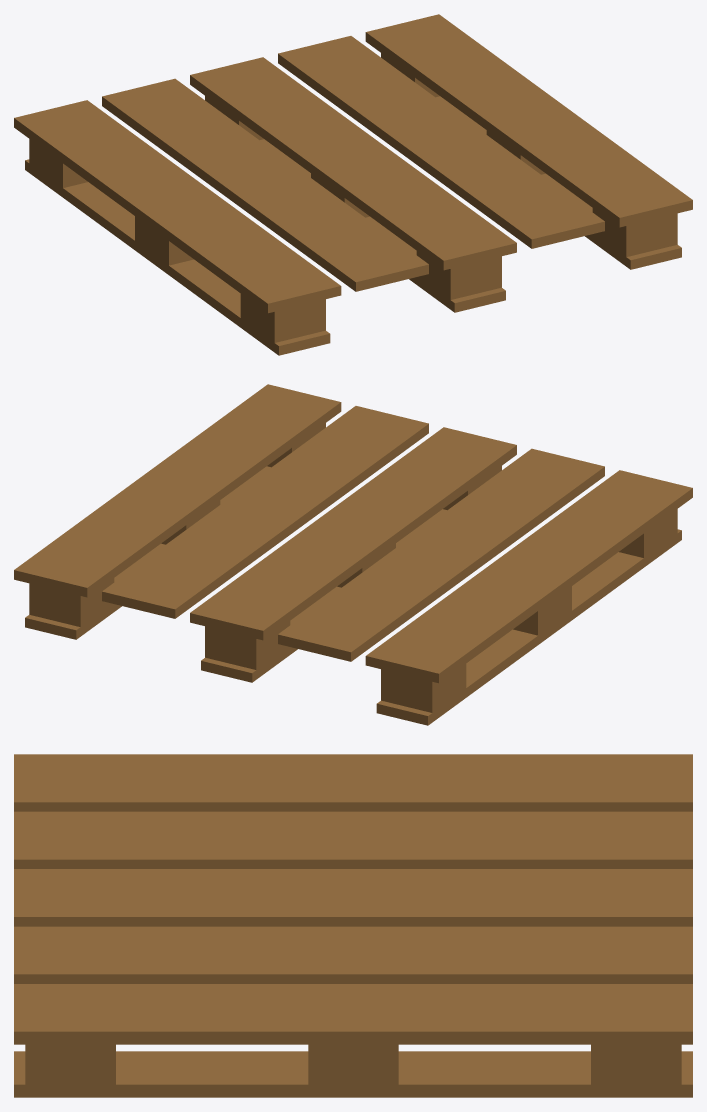
The model's file is pallet.glb.
The picture shows the model from 3 angles, top to bottom: view 1: azimuth 30°, elevation 25°; view 2: azimuth 150°, elevation 25°; view 3: azimuth 270°, elevation 25°; orthographic projection. The views are drawn at different scales.
Bounding box in the file's own units: 1.16 × 0.1425 × 1.2.
